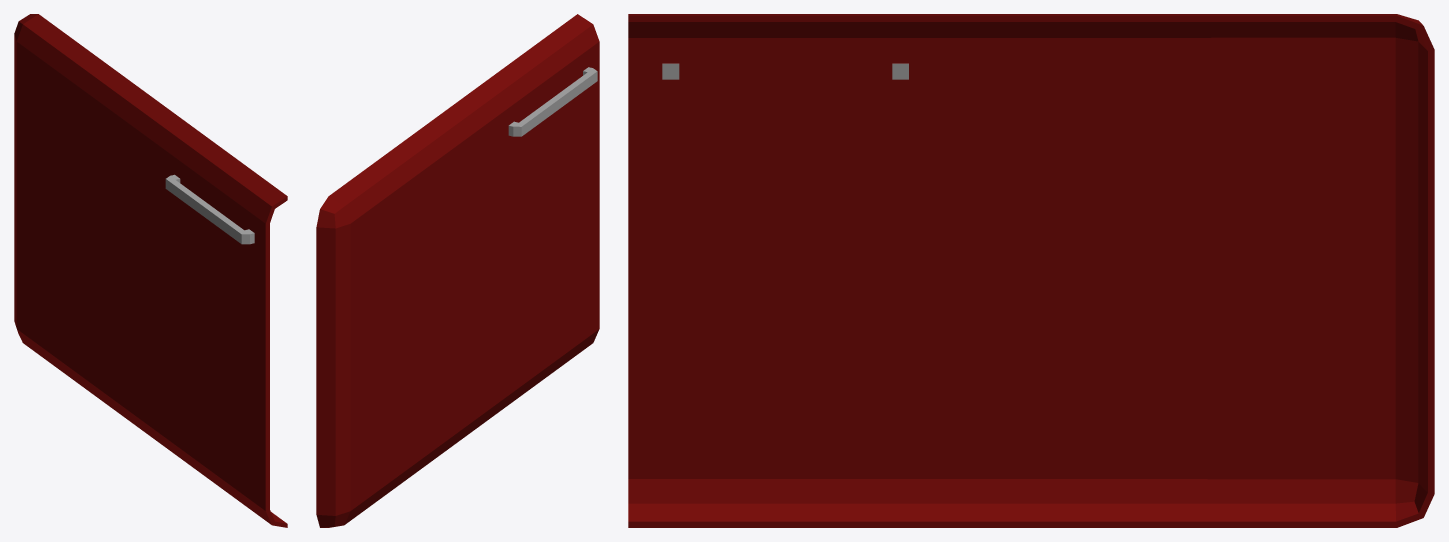
Rendered from door.obj.
3 renders of one model, left to right at view 1: azimuth 30°, elevation 25°; view 2: azimuth 150°, elevation 25°; view 3: azimuth 270°, elevation 25°, orthographic. The views are drawn at different scales.
Parts seen in each view (by area): view 1: Cube.093_Cube.121_basic_1, Cube.093_Cube.121_basic_2; view 2: Cube.093_Cube.121_basic_1, Cube.093_Cube.121_basic_2; view 3: Cube.093_Cube.121_basic_1.
Boxes of the visible parts, bbox=[...] form: Cube.093_Cube.121_basic_1: bbox=[14, 14, 287, 527]; Cube.093_Cube.121_basic_2: bbox=[165, 174, 254, 244]; Cube.093_Cube.121_basic_1: bbox=[316, 14, 599, 527]; Cube.093_Cube.121_basic_2: bbox=[508, 67, 597, 136]; Cube.093_Cube.121_basic_1: bbox=[628, 14, 1434, 527].
Bounding box in the file's own units: 0.0156 × 0.1499 × 0.214.
